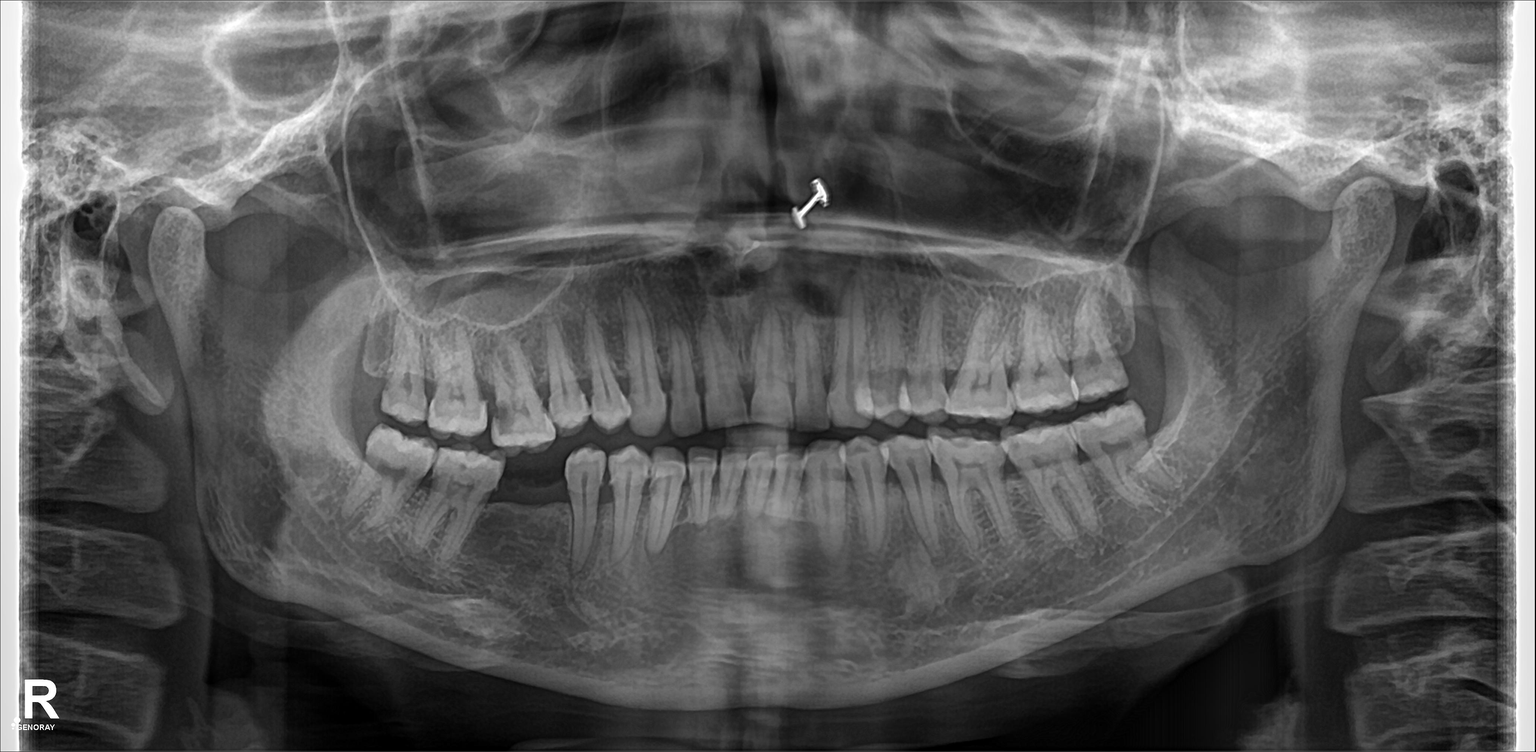Dental Caries: (482, 387, 523, 434)
Missing Tooth: (505, 456, 571, 569), (1102, 292, 1170, 392), (348, 292, 398, 398)
